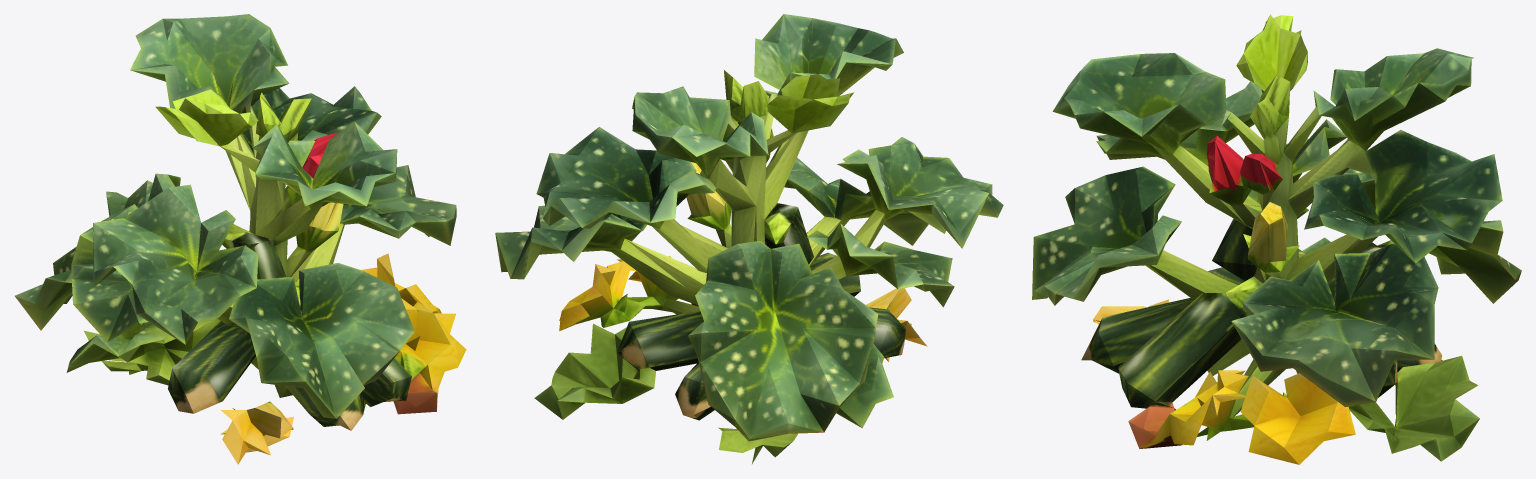
The model's file is Zucchini.glb.
The picture shows the model from 3 angles, left to right: view 1: azimuth 30°, elevation 25°; view 2: azimuth 150°, elevation 25°; view 3: azimuth 270°, elevation 25°; orthographic projection. The views are drawn at different scales.
Visible parts, largest first — view 1: geometry_0; view 2: geometry_0; view 3: geometry_0.
Part boxes in pixels (x1,y1,x2,y2): geometry_0: (15, 14, 466, 464); geometry_0: (495, 14, 1003, 463); geometry_0: (1032, 14, 1521, 464).
Bounding box in the file's own units: 0.76 × 0.61 × 0.76.
Materials: 1 (1 with a texture image).
